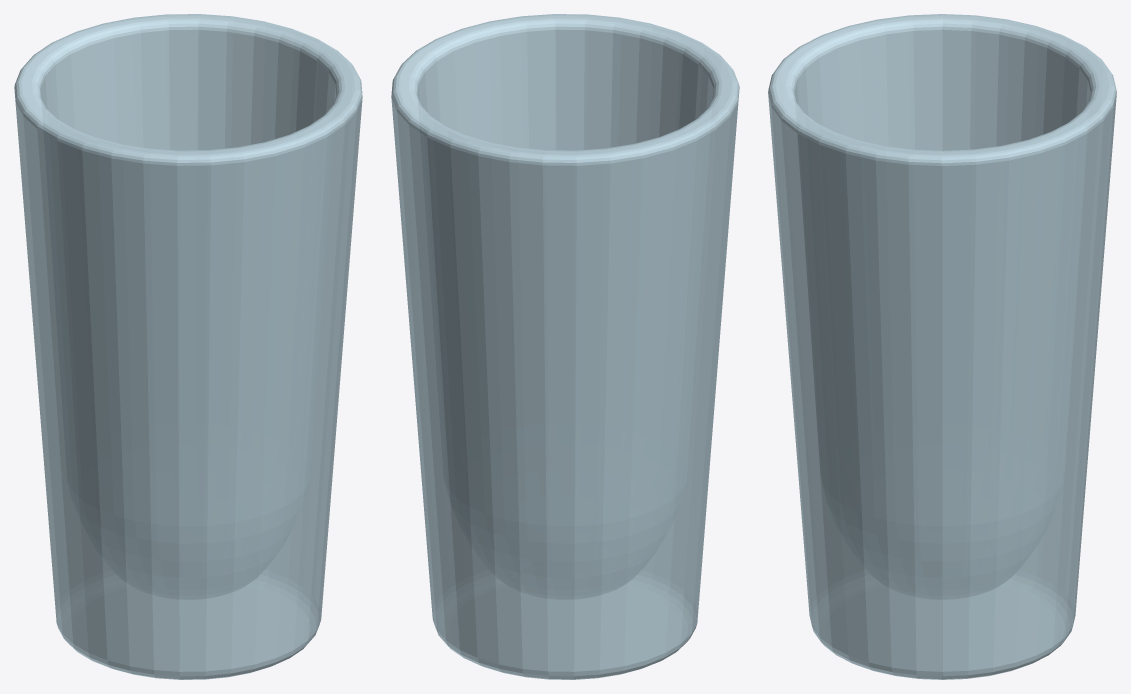
The model's file is ShotGlass.dae.
3 renders of one model, left to right at view 1: azimuth 30°, elevation 25°; view 2: azimuth 150°, elevation 25°; view 3: azimuth 270°, elevation 25°, orthographic.
Visible parts, largest first — view 1: Cylinder.004; view 2: Cylinder.004; view 3: Cylinder.004.
Boxes of the visible parts, box(x1,y1,x2,y2) form: Cylinder.004: box(14, 14, 362, 679); Cylinder.004: box(391, 14, 739, 679); Cylinder.004: box(768, 14, 1116, 679).
Size of the model in its own units: 0.0349 by 0.0349 by 0.06.
